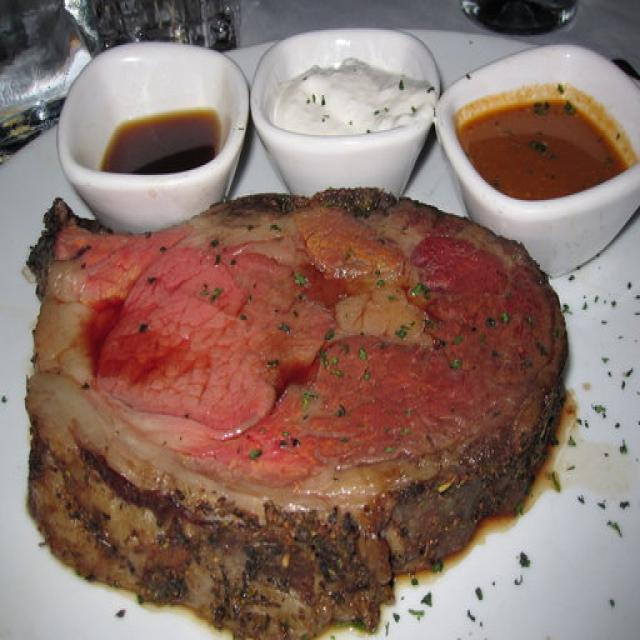Rib: (32, 192, 568, 638)
